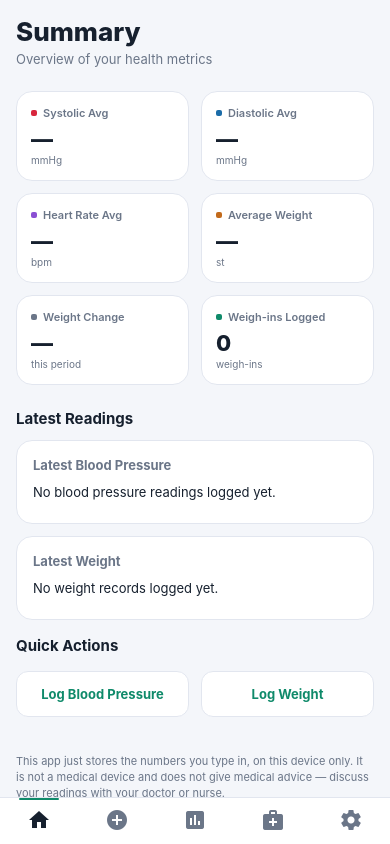
Test: logging a weight › shows a saved weight as the latest
The width and height of the screenshot is (390, 844).
Check: the text "Summary" is shown, box [16,16,141,47]
Click the tab named "Log". click: (117, 820)
box: [105,808,129,832]
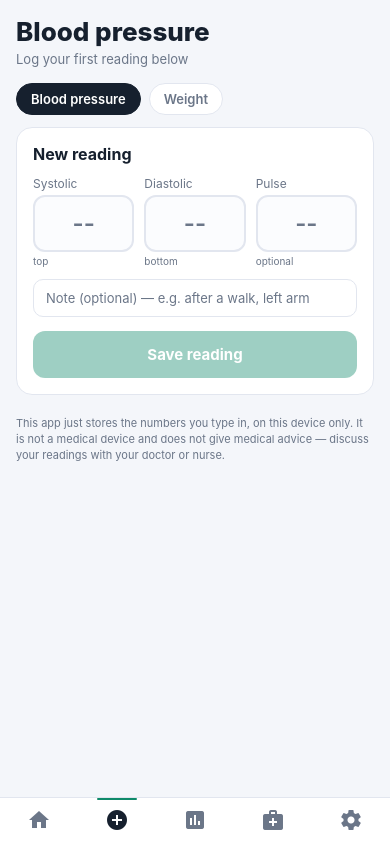
Check: the text "New reading" is shown, box [33,144,132,164]
Click the radio button "Weight". click: (186, 99)
box: [149,83,223,115]
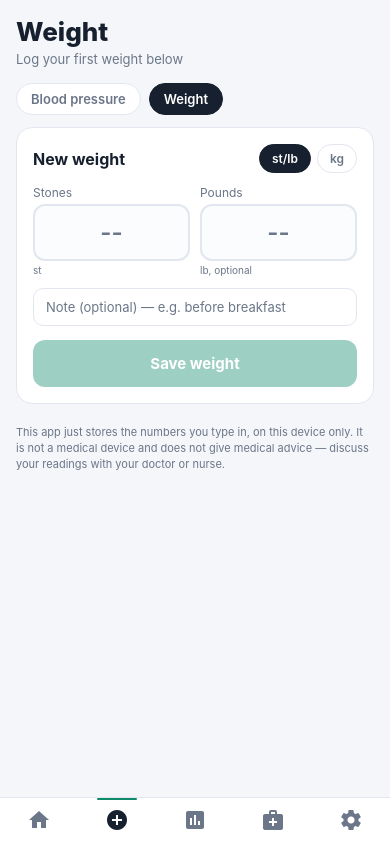
Check: the text "New weight" is shown, box [33,148,125,168]
Type "12" into the field named "Stones st". click: (112, 232)
box: [33,204,190,261]
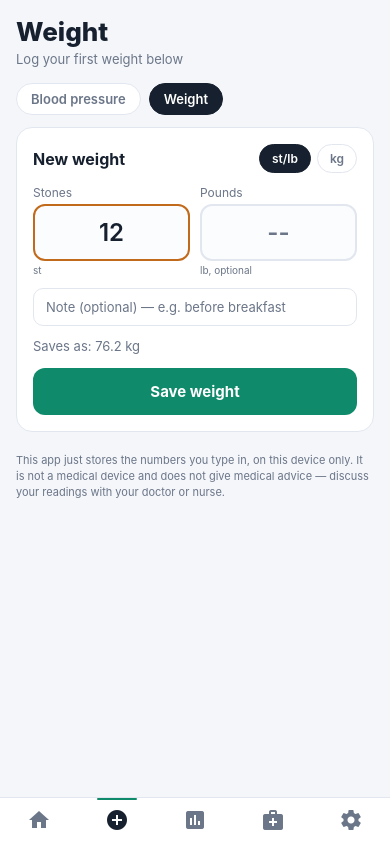
Type "11" into the field named "Pounds lb, optional". click: (278, 232)
box: [200,204,357,261]
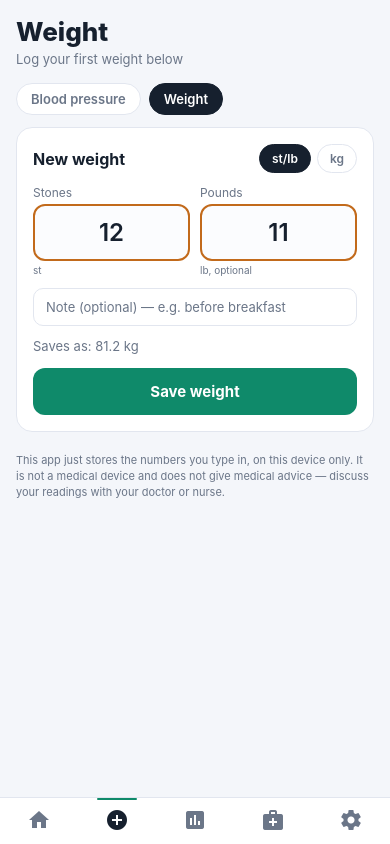
Click the button "Save weight". click: (195, 392)
box: [33,368,357,415]
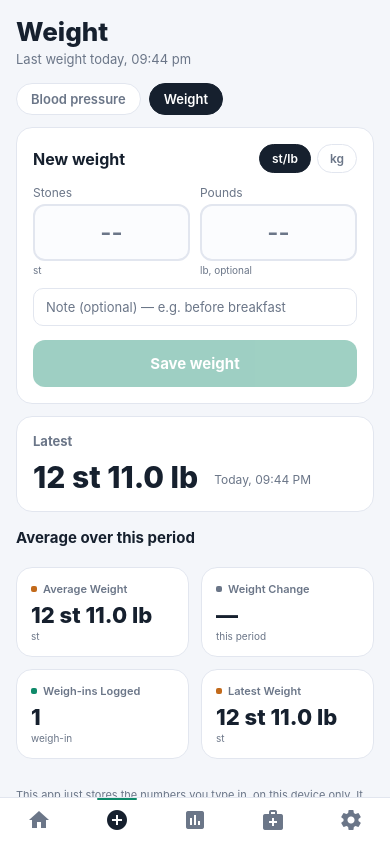
Check: the 1st text "12 st 11.0 lb" is shown, box [33,459,198,495]
Check: the text "Last weight today, 09:44 pm" is shown, box [16,51,191,67]
